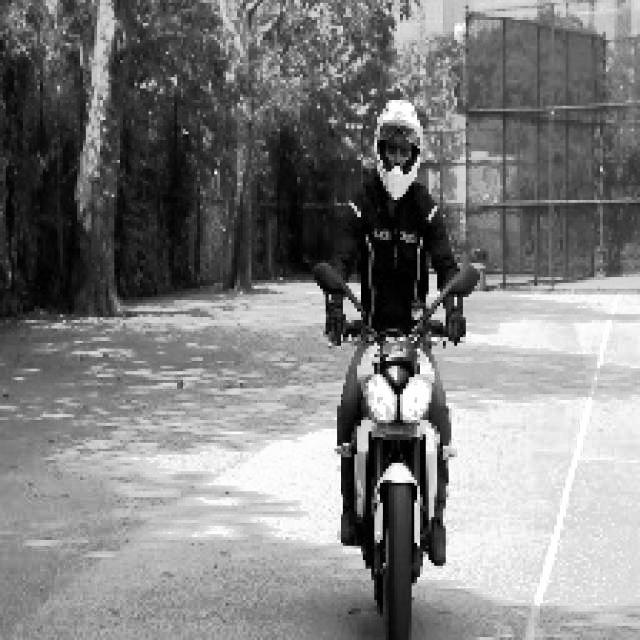Bike: (349, 306, 451, 615)
